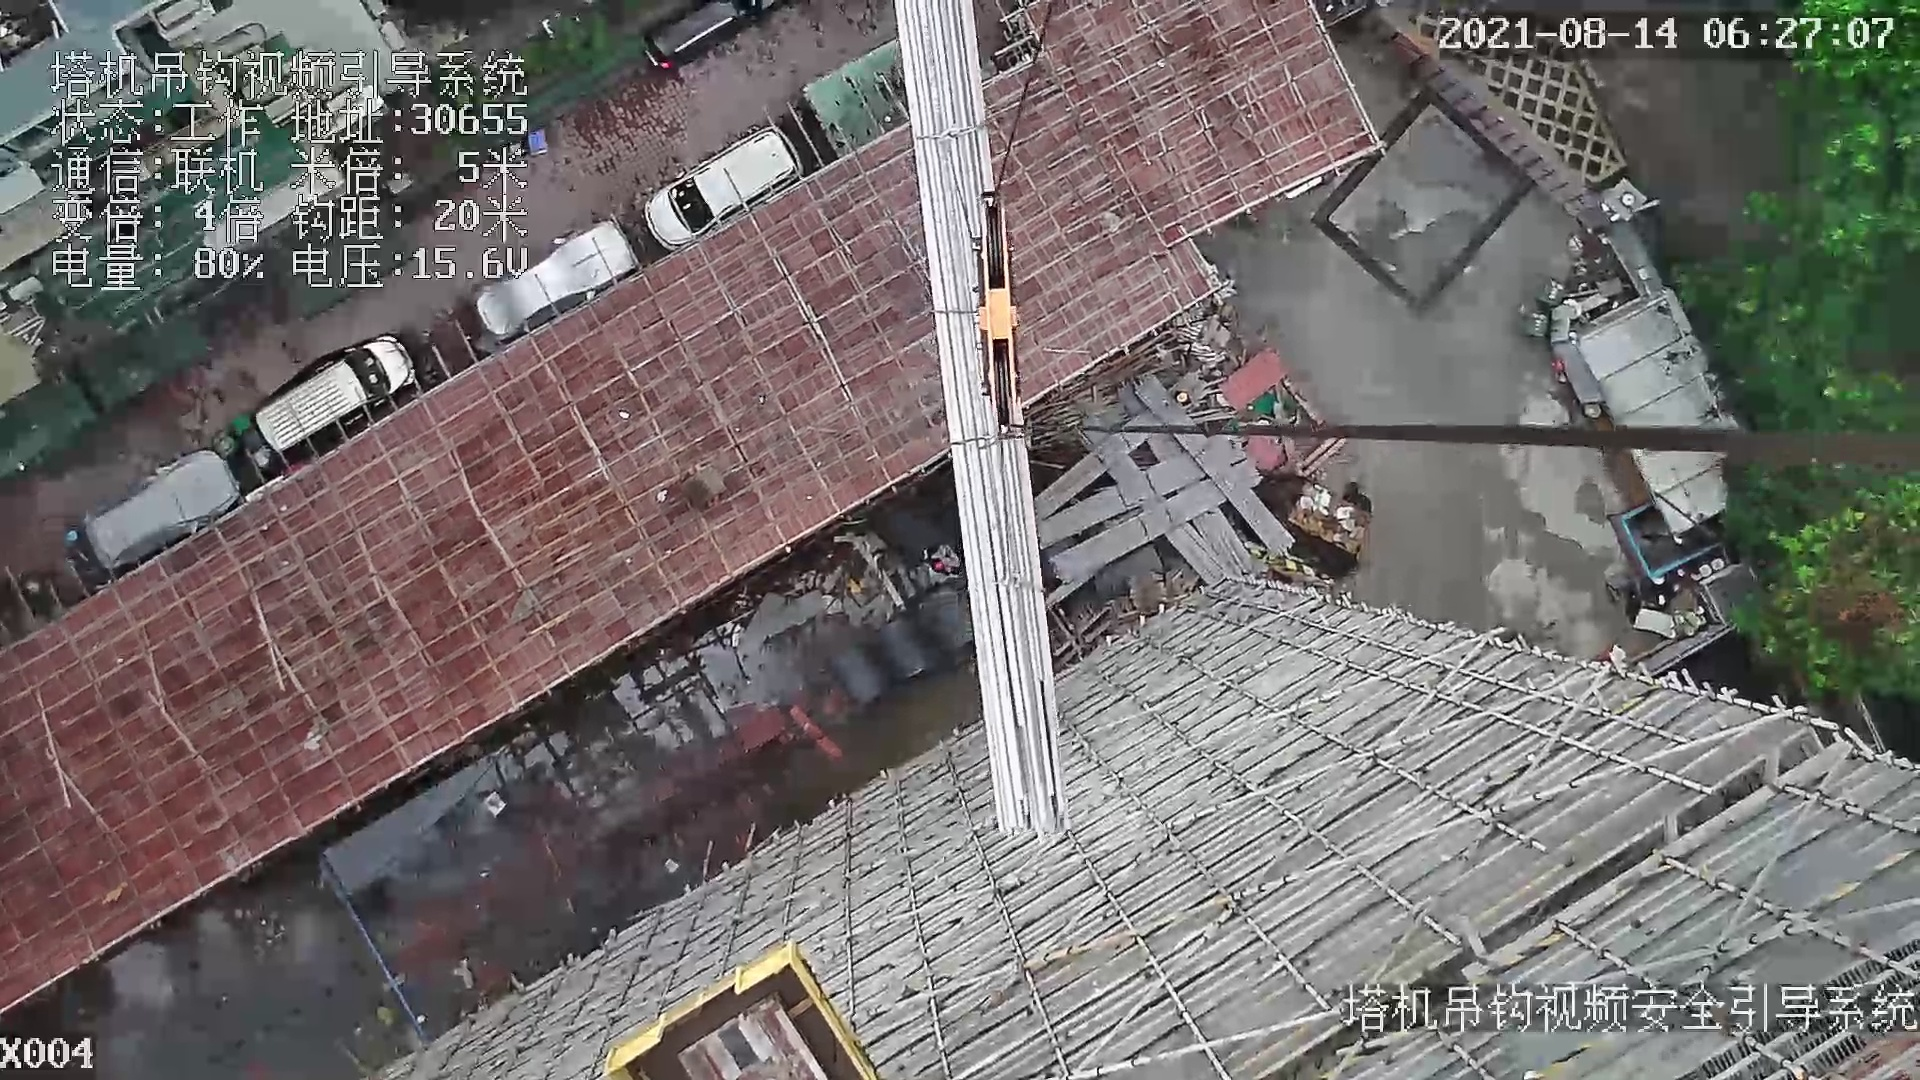hook: (951, 182, 1029, 436)
